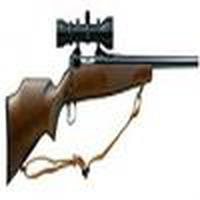gun: (2, 19, 200, 183)
